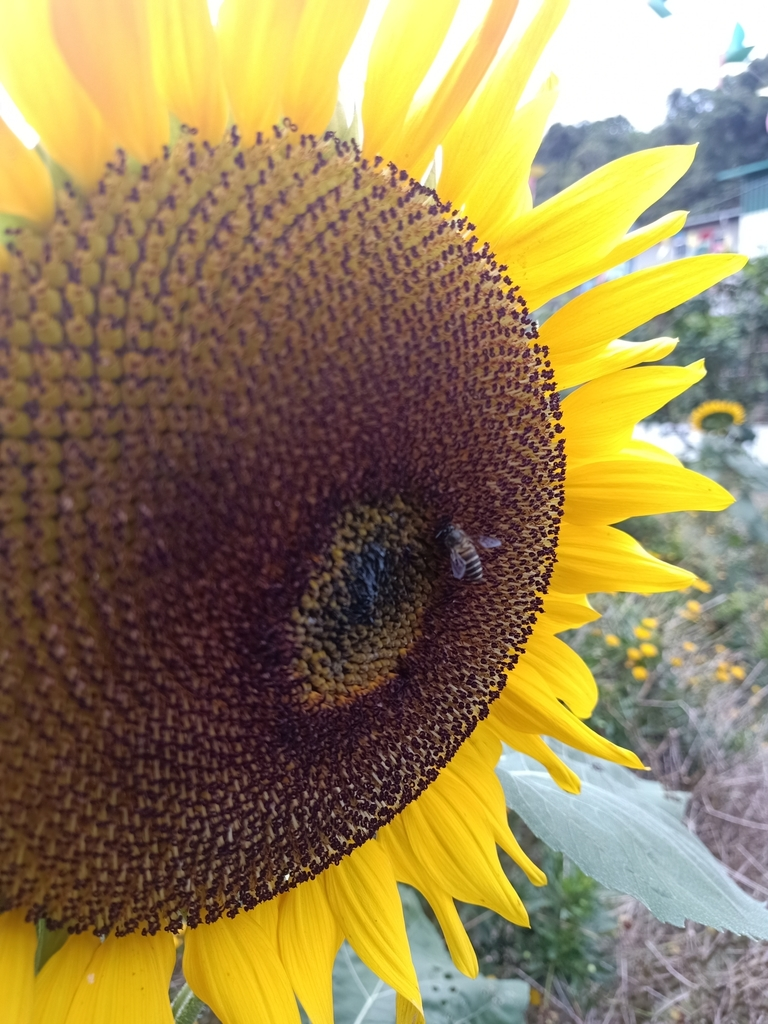not_bumblebee: (434, 516, 507, 585)
